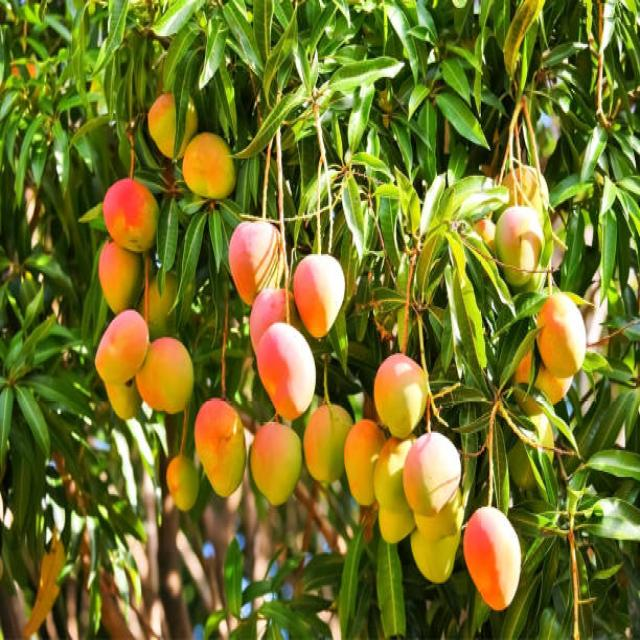mango: (464, 506, 520, 611), (258, 322, 316, 421), (402, 431, 461, 515), (196, 398, 244, 496), (229, 221, 284, 305), (374, 354, 428, 438), (102, 178, 159, 252), (294, 255, 345, 337), (251, 422, 301, 505), (136, 339, 192, 413), (538, 292, 586, 378), (95, 309, 149, 383), (495, 206, 544, 286), (305, 405, 352, 482), (344, 420, 385, 506), (184, 133, 235, 198), (250, 289, 301, 352), (99, 240, 142, 314), (374, 437, 412, 513), (410, 531, 461, 583), (415, 489, 464, 540), (166, 454, 199, 511), (535, 366, 572, 404), (381, 506, 415, 544), (351, 478, 372, 505)
